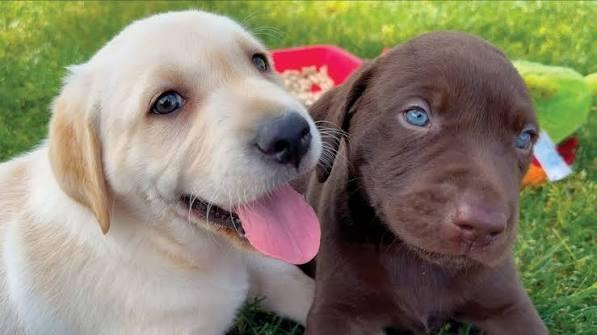puppy-dog: (0, 7, 324, 335), (306, 30, 551, 335)
